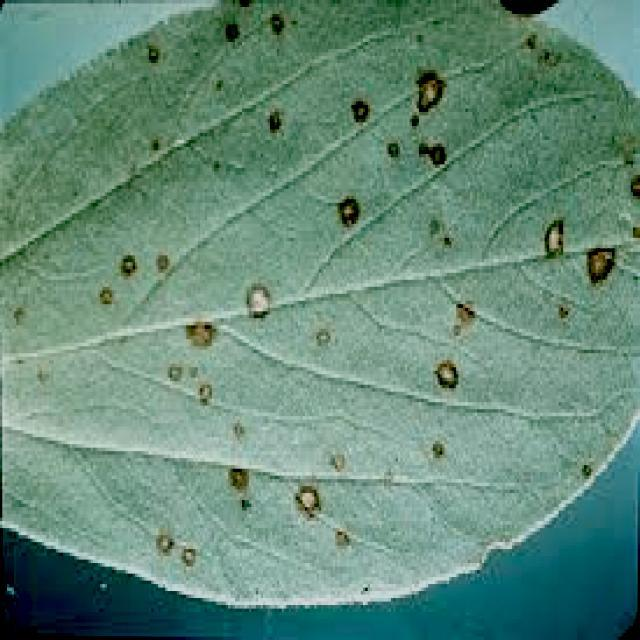Bercak Daun Serkospora: (0, 4, 640, 612)
